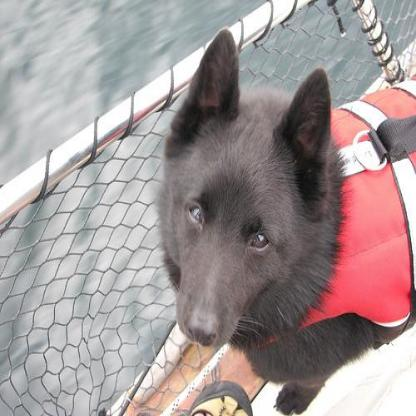schipperke: (154, 26, 414, 412)
